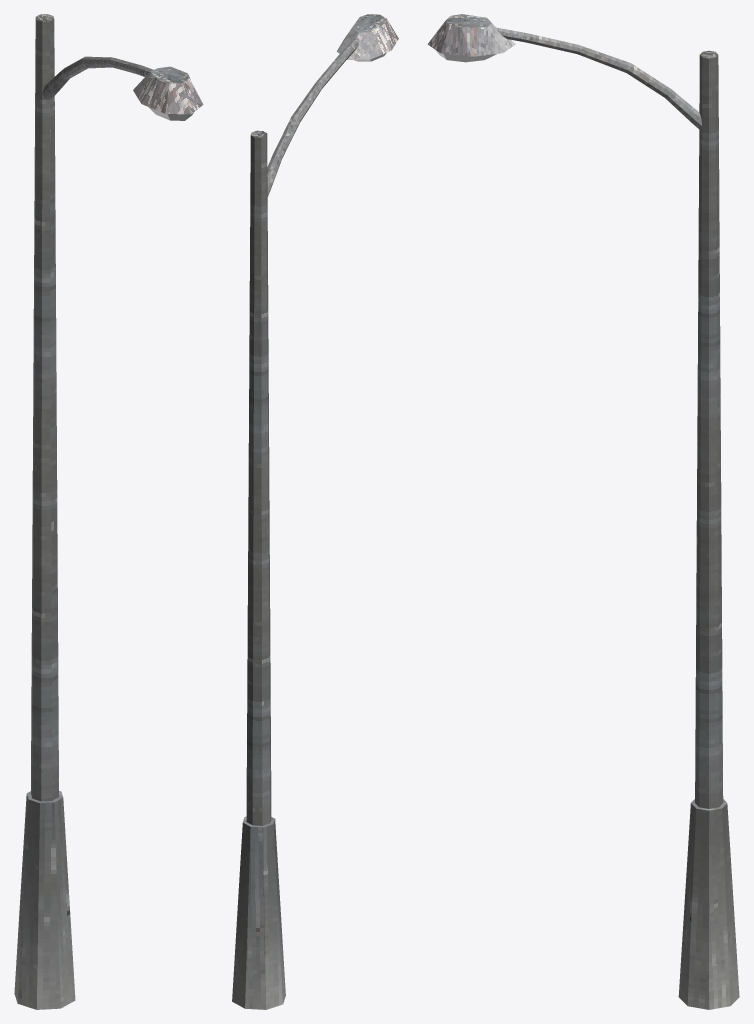
The model's file is streetlight.glb.
3 views of the same model, side by side, from view 1: azimuth 30°, elevation 25°; view 2: azimuth 150°, elevation 25°; view 3: azimuth 270°, elevation 25° (orthographic). The views are drawn at different scales.
Parts seen in each view (by area): view 1: Cylinder; view 2: Cylinder; view 3: Cylinder.
Boxes of the visible parts, x1,y1,x2,y2 form: Cylinder: (14, 14, 203, 1009); Cylinder: (232, 14, 398, 1009); Cylinder: (427, 14, 739, 1009).
Bounding box in the file's own units: 0.2812 × 4.98 × 1.44.
1 material, 1 textured.
